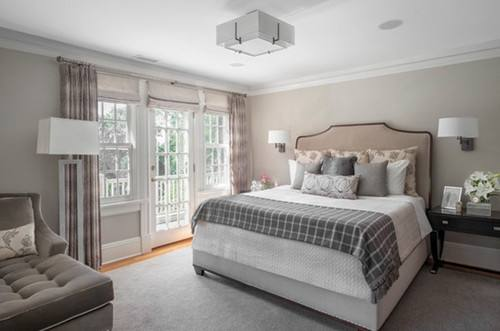床: (202, 182, 426, 319)
枕头: (290, 147, 412, 195)
灯: (433, 116, 482, 151), (266, 127, 288, 155), (379, 19, 407, 32)
